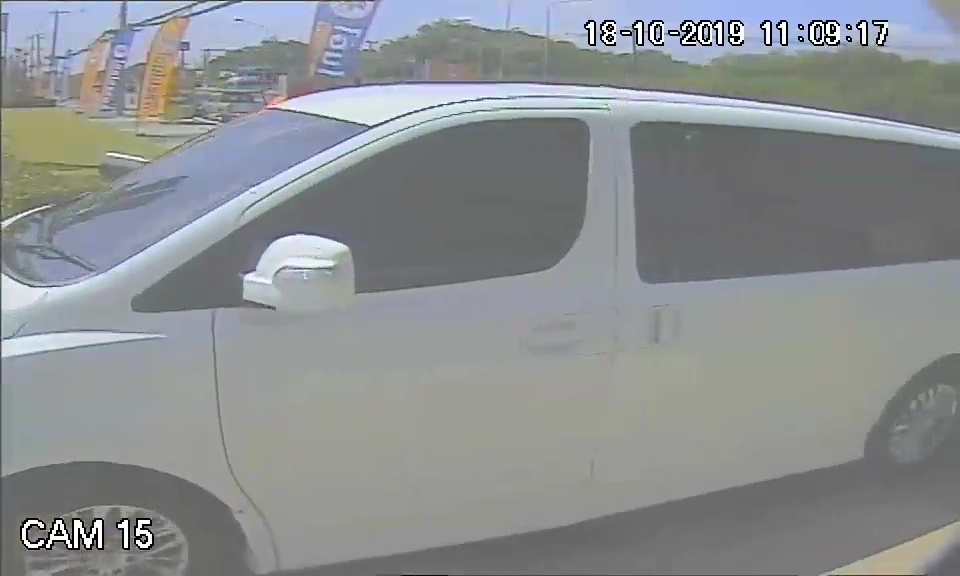van: (55, 72, 960, 533)
